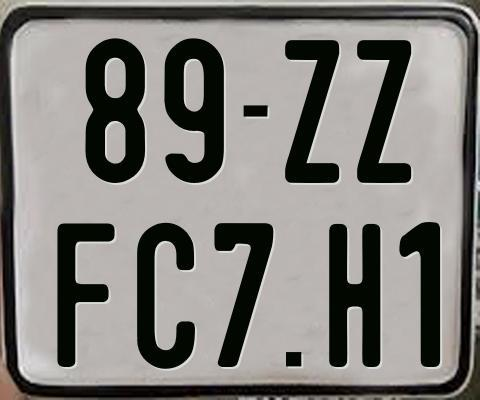1: (396, 222, 438, 368)
7: (211, 222, 270, 369)
8: (83, 35, 146, 184)
9: (162, 38, 225, 187)
C: (137, 220, 196, 368)
F: (54, 220, 114, 369)
H: (327, 222, 384, 369)
Z: (354, 38, 412, 184), (284, 38, 339, 181)
